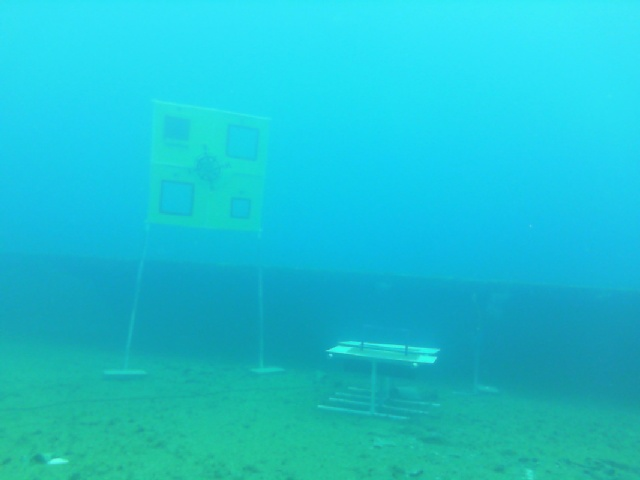bin_cover: (318, 331, 444, 426)
torpedo_cover: (164, 118, 191, 144)
torpedo_hole: (227, 121, 261, 165), (159, 177, 194, 216), (163, 112, 192, 144), (224, 193, 252, 221)
torpedo_target: (134, 96, 274, 237)
